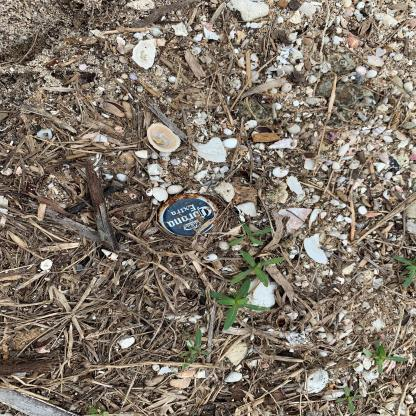trash: (153, 190, 222, 240)
